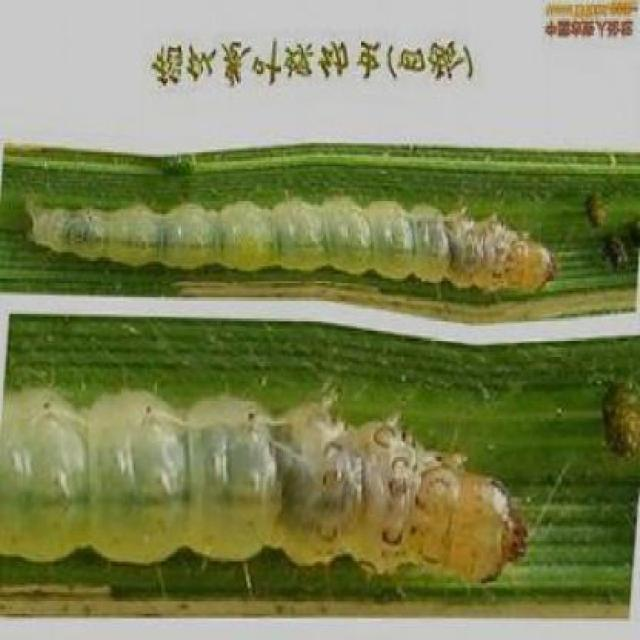leaf-folder: (62, 378, 550, 590), (13, 179, 598, 306)
